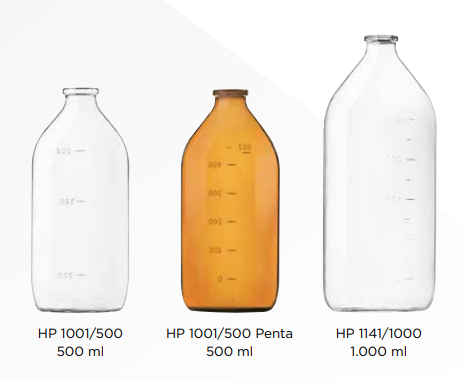glass_bottle: (320, 32, 439, 317), (28, 82, 134, 317), (176, 84, 283, 316)
